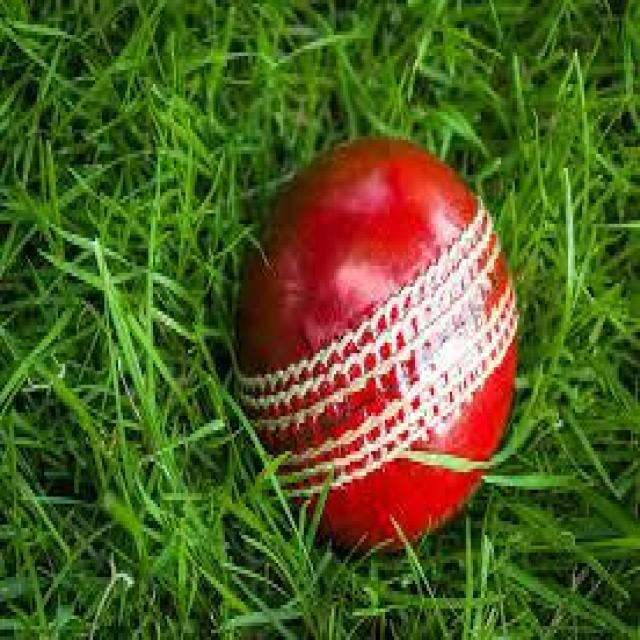ball: (234, 137, 524, 552)
